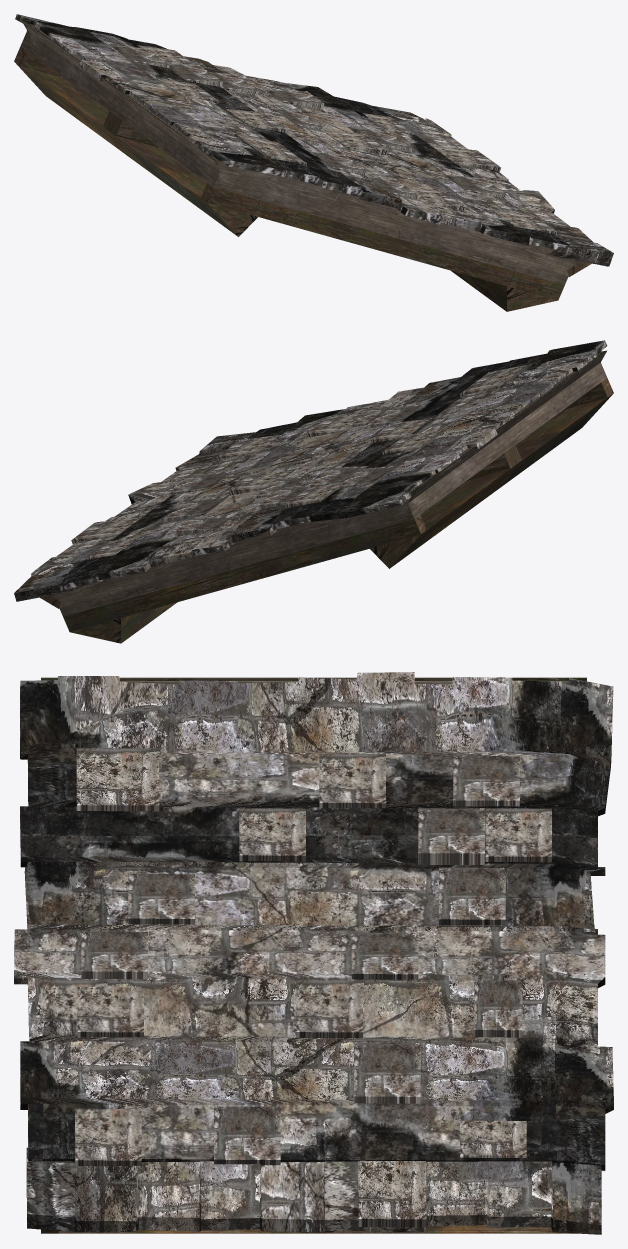
The picture shows the model from 3 angles, top to bottom: view 1: azimuth 30°, elevation 25°; view 2: azimuth 150°, elevation 25°; view 3: azimuth 270°, elevation 25°; orthographic projection. The views are drawn at different scales.
Visible parts, largest first — view 1: SM_T3_Roof_Large_Shallow_LOD0; view 2: SM_T3_Roof_Large_Shallow_LOD0; view 3: SM_T3_Roof_Large_Shallow_LOD0.
Part boxes in pixels (x1=…): SM_T3_Roof_Large_Shallow_LOD0: x1=14, y1=14, x2=613, y2=311; SM_T3_Roof_Large_Shallow_LOD0: x1=14, y1=340, x2=613, y2=643; SM_T3_Roof_Large_Shallow_LOD0: x1=14, y1=672, x2=613, y2=1234.
Size of the model in its own units: 3.67 by 1.96 by 3.3.
3 materials, 3 textured.
